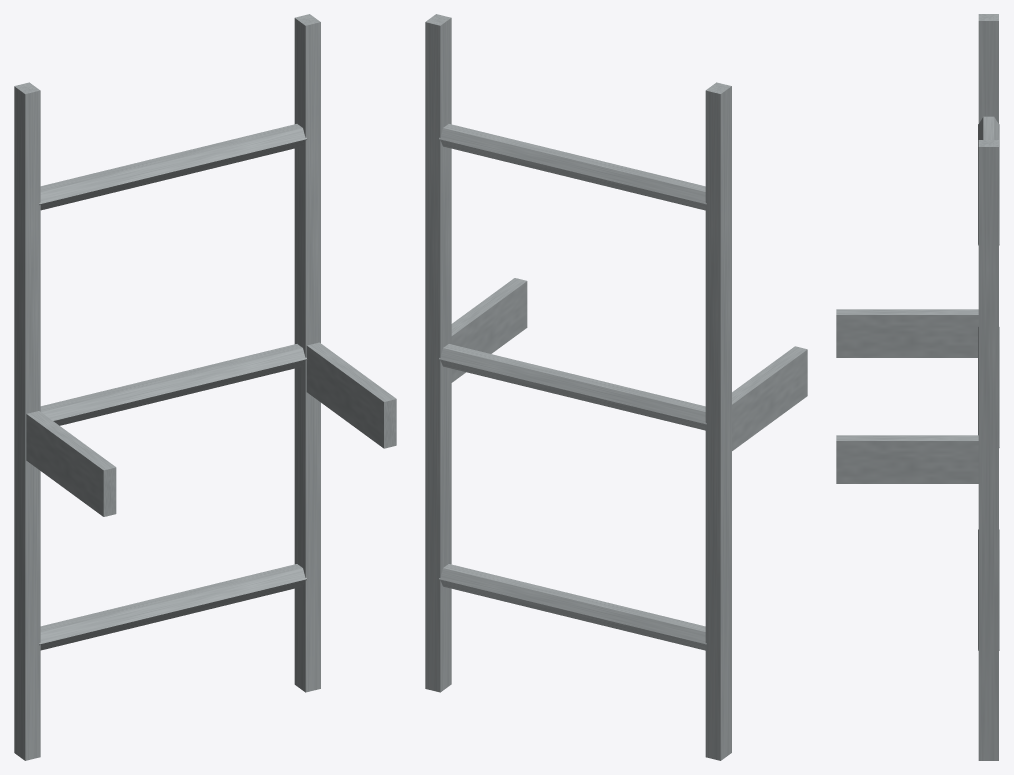
File: body.obj
The picture shows the model from 3 angles, left to right: view 1: azimuth 30°, elevation 25°; view 2: azimuth 150°, elevation 25°; view 3: azimuth 270°, elevation 25°; orthographic projection. The views are drawn at different scales.
Bounding box in the file's own units: 0.464 × 1 × 0.241.
